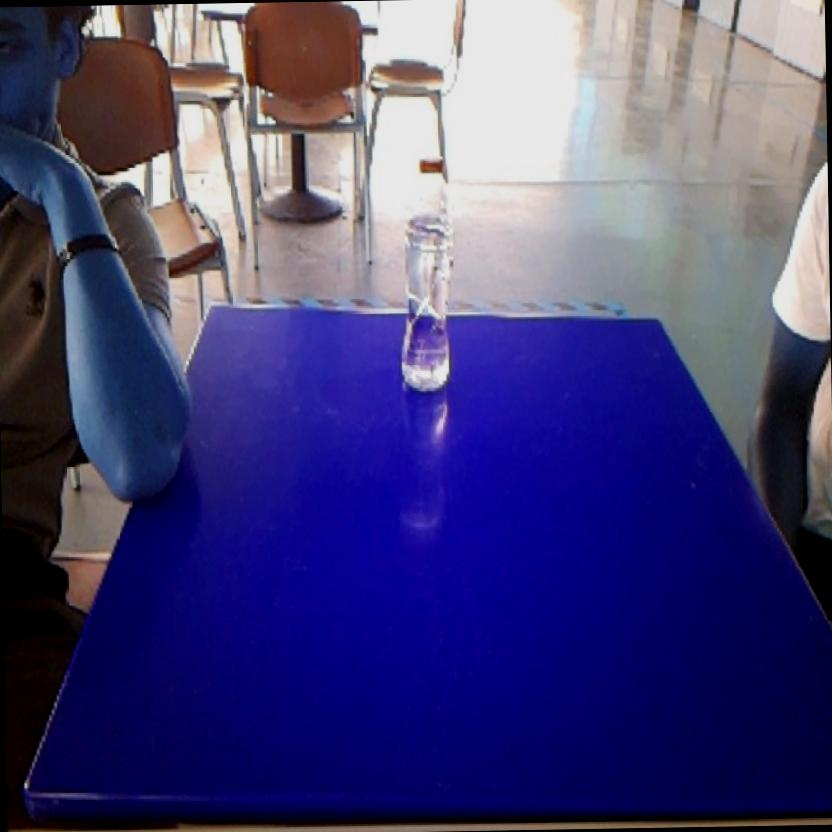no_label: (392, 148, 464, 398)
